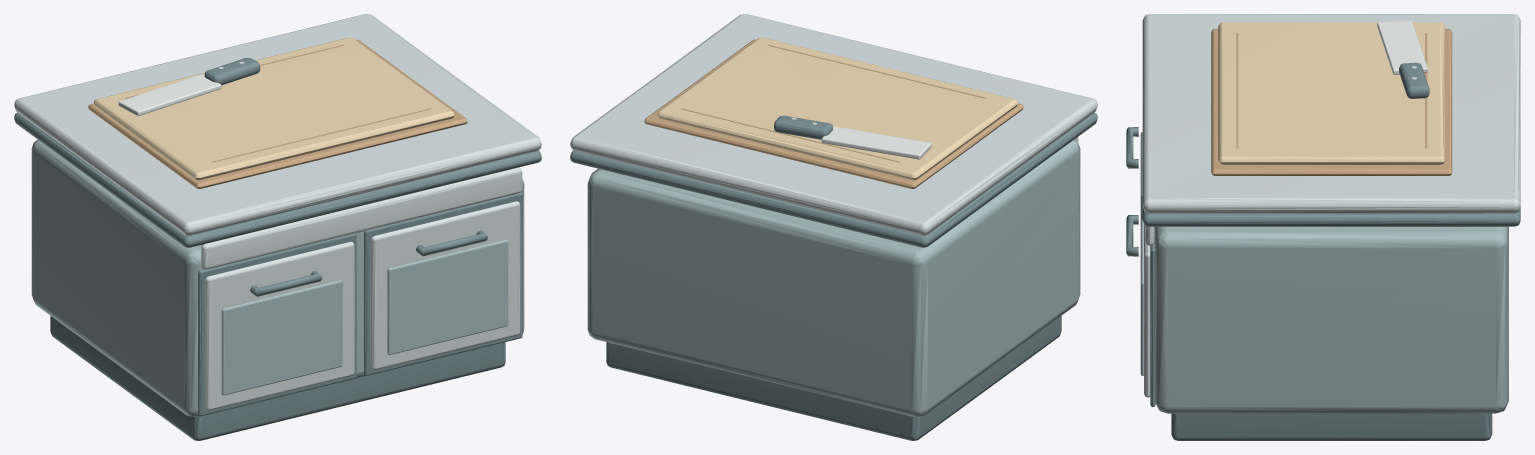
Rendered from PrepCounter.fbx.
3 views of the same model, side by side, from view 1: azimuth 30°, elevation 25°; view 2: azimuth 150°, elevation 25°; view 3: azimuth 270°, elevation 25° (orthographic). The views are drawn at different scales.
Visible parts, largest first — view 1: PrepCounter.002; view 2: PrepCounter.002; view 3: PrepCounter.002.
Part boxes in pixels (x1,y1,x2,y2): PrepCounter.002: [14, 14, 541, 440]; PrepCounter.002: [570, 14, 1097, 440]; PrepCounter.002: [1126, 14, 1520, 440].
Size of the model in its own units: 1.9 by 1.33 by 1.67.
